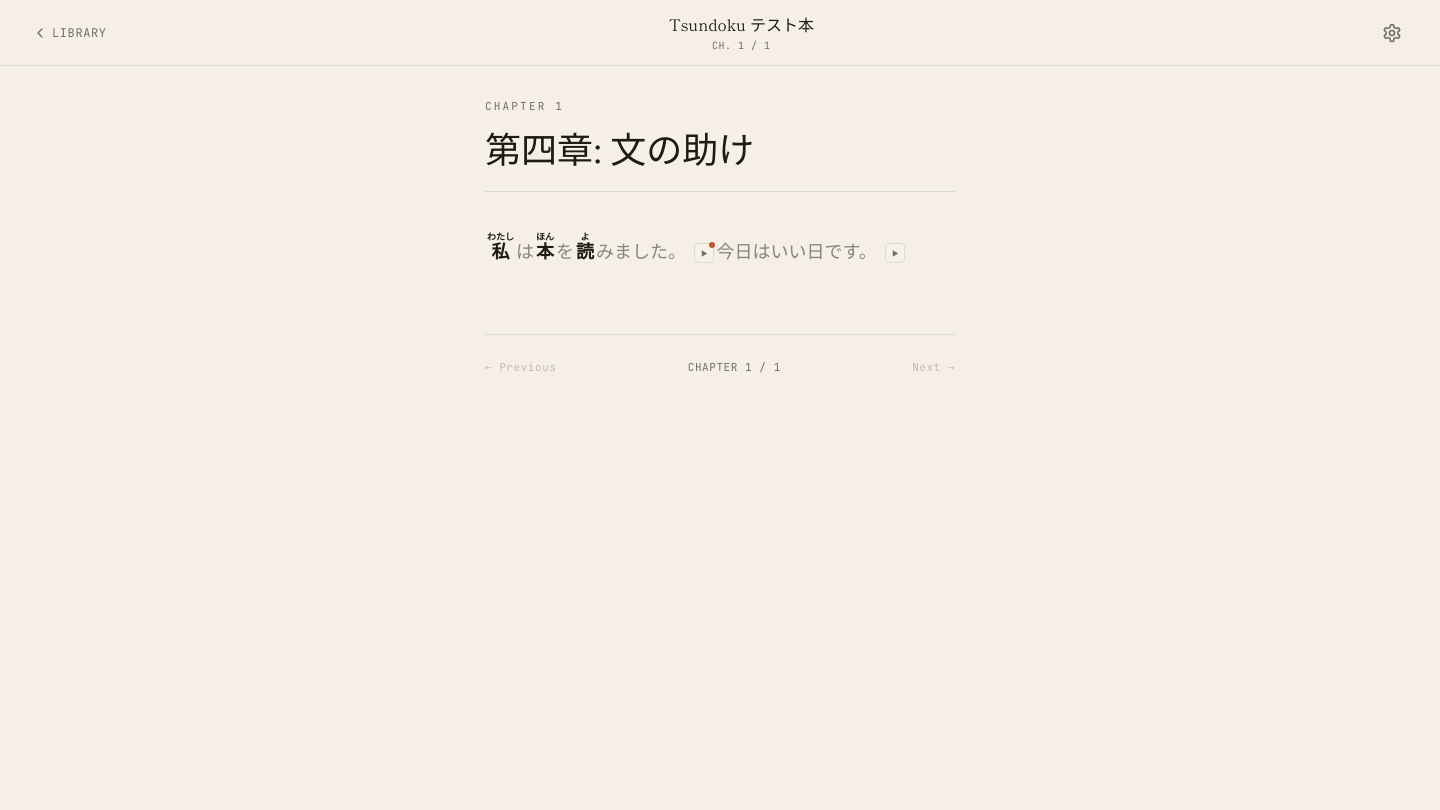
Test: Reader › sentence help › keeps linked grammar collapsed until the learner expands it
Step 1. Click the button named "translation for p0-s0" → (704, 253), box [694,243,714,263]
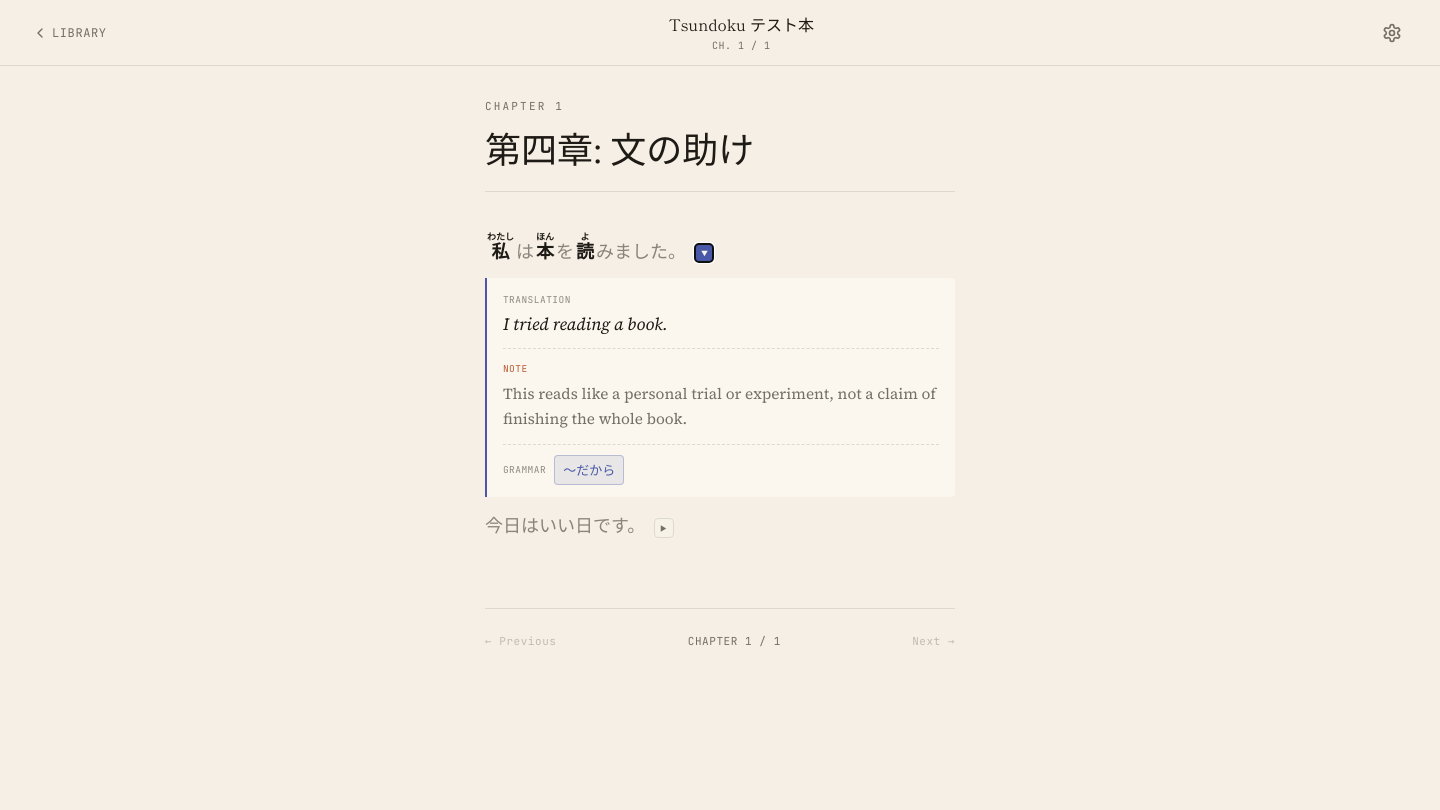
Expected: the text "Because (casual reason)" is not shown
Step 2. Click the button with aria-label "grammar pattern 〜だから" → (589, 470), box [554,455,624,485]
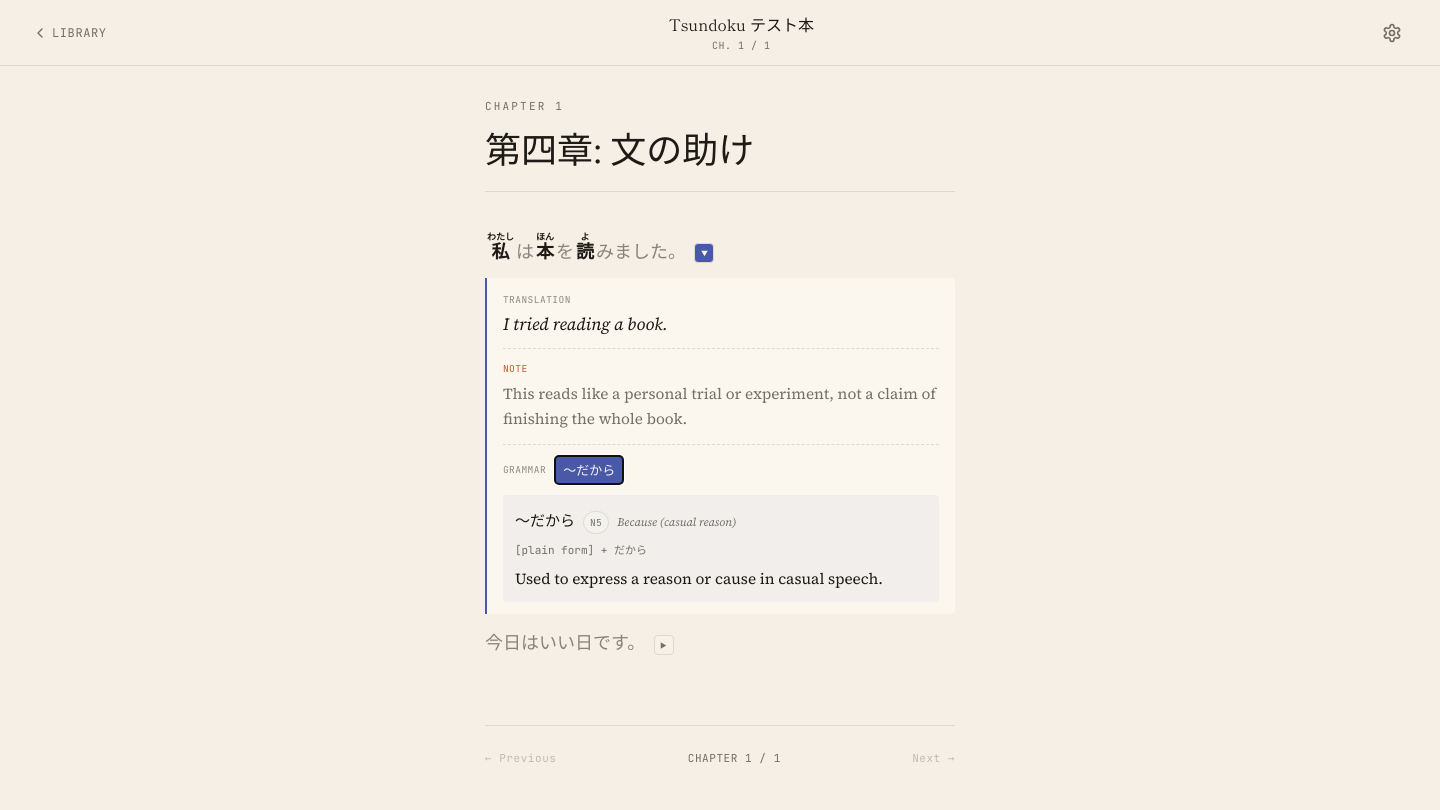
Result: the text "Because (casual reason)" is shown at [617,511,736,534]
